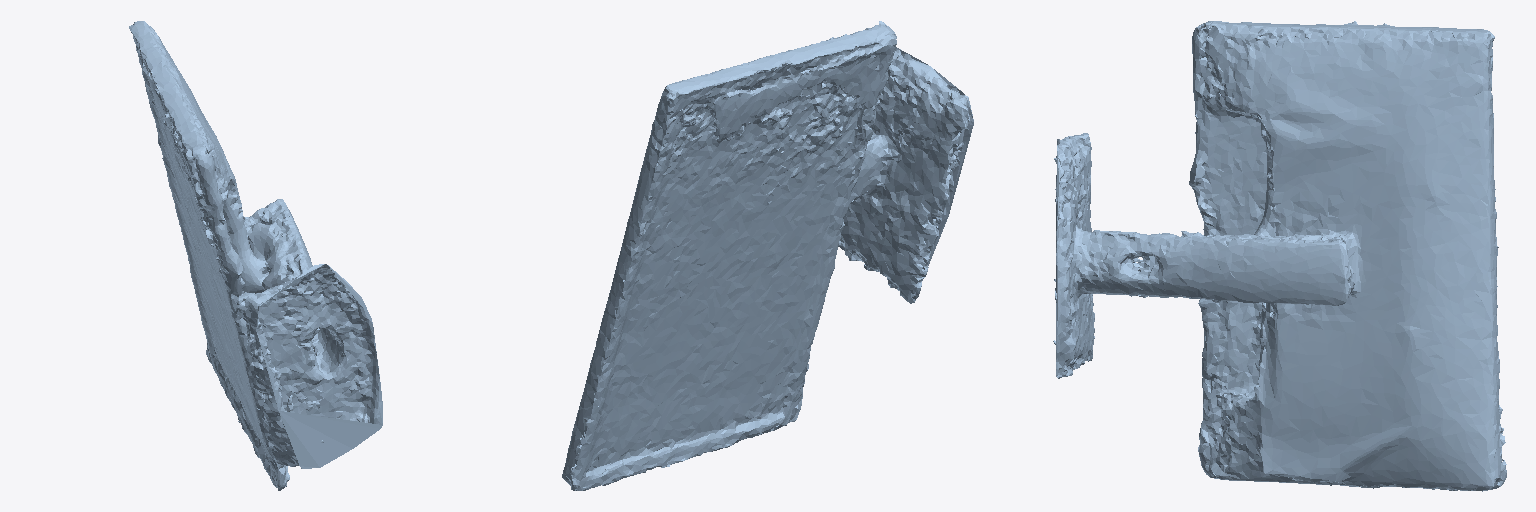
robot.urdf — monitor.urdf:
<?xml version="1.0" ?>
<robot name="monitor.urdf">
  <dynamics damping="0.5" friction="0.9"/>
  <link name="baseLink">
    <contact>
      <lateral_friction value="0.9"/>
      <rolling_friction value="0.5"/>
      <stiffness value="30000"/>
      <damping value="1000"/>
    </contact>
    <visual>
      <origin rpy="0 0 0" xyz="0 0 0"/>
      <geometry>
        <mesh filename="objects/monitor/monitor.obj" scale="1.0 1.0 1.0"/>
      </geometry>
       <material name="mat">
        <color rgba="0.7 0.8 0.9 1"/>
      </material>
    </visual>
    <collision>
      <origin rpy="0 0 0" xyz="0 0 0"/>
      <geometry>
         <mesh filename="objects/monitor/monitor.obj" scale="1.0 1.0 1.0"/>
      </geometry>
    </collision>
  </link>
</robot>

--- Render facts (derived) ---
3 views of the same robot in one strip: view 1: azimuth 30°, elevation 25°; view 2: azimuth 150°, elevation 25°; view 3: azimuth 270°, elevation 25° (orthographic).
Robot: monitor.urdf — 1 links, 0 joints (none); root link baseLink; default pose: all joints at 0.
Links seen in each view (by area): view 1: baseLink; view 2: baseLink; view 3: baseLink.
Link boxes in pixels (x1,y1,x2,y2): baseLink: (129,21,382,490); baseLink: (562,21,973,490); baseLink: (1053,21,1506,491).
Bounding box of the posed robot: 0.2675 × 0.5396 × 0.5722 m (x, y, z).
1 mesh visuals loaded from 1 distinct referenced files (1 OBJ).
